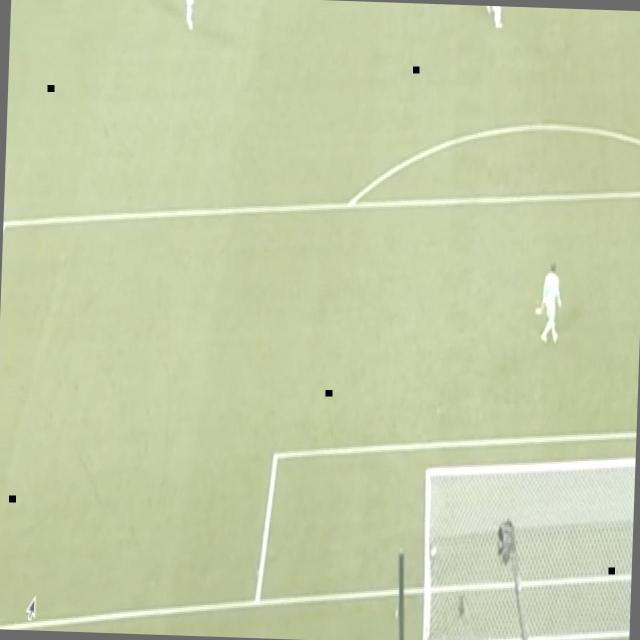player-white: (538, 258, 564, 346), (179, 0, 203, 33), (486, 6, 506, 32), (483, 6, 495, 18)
